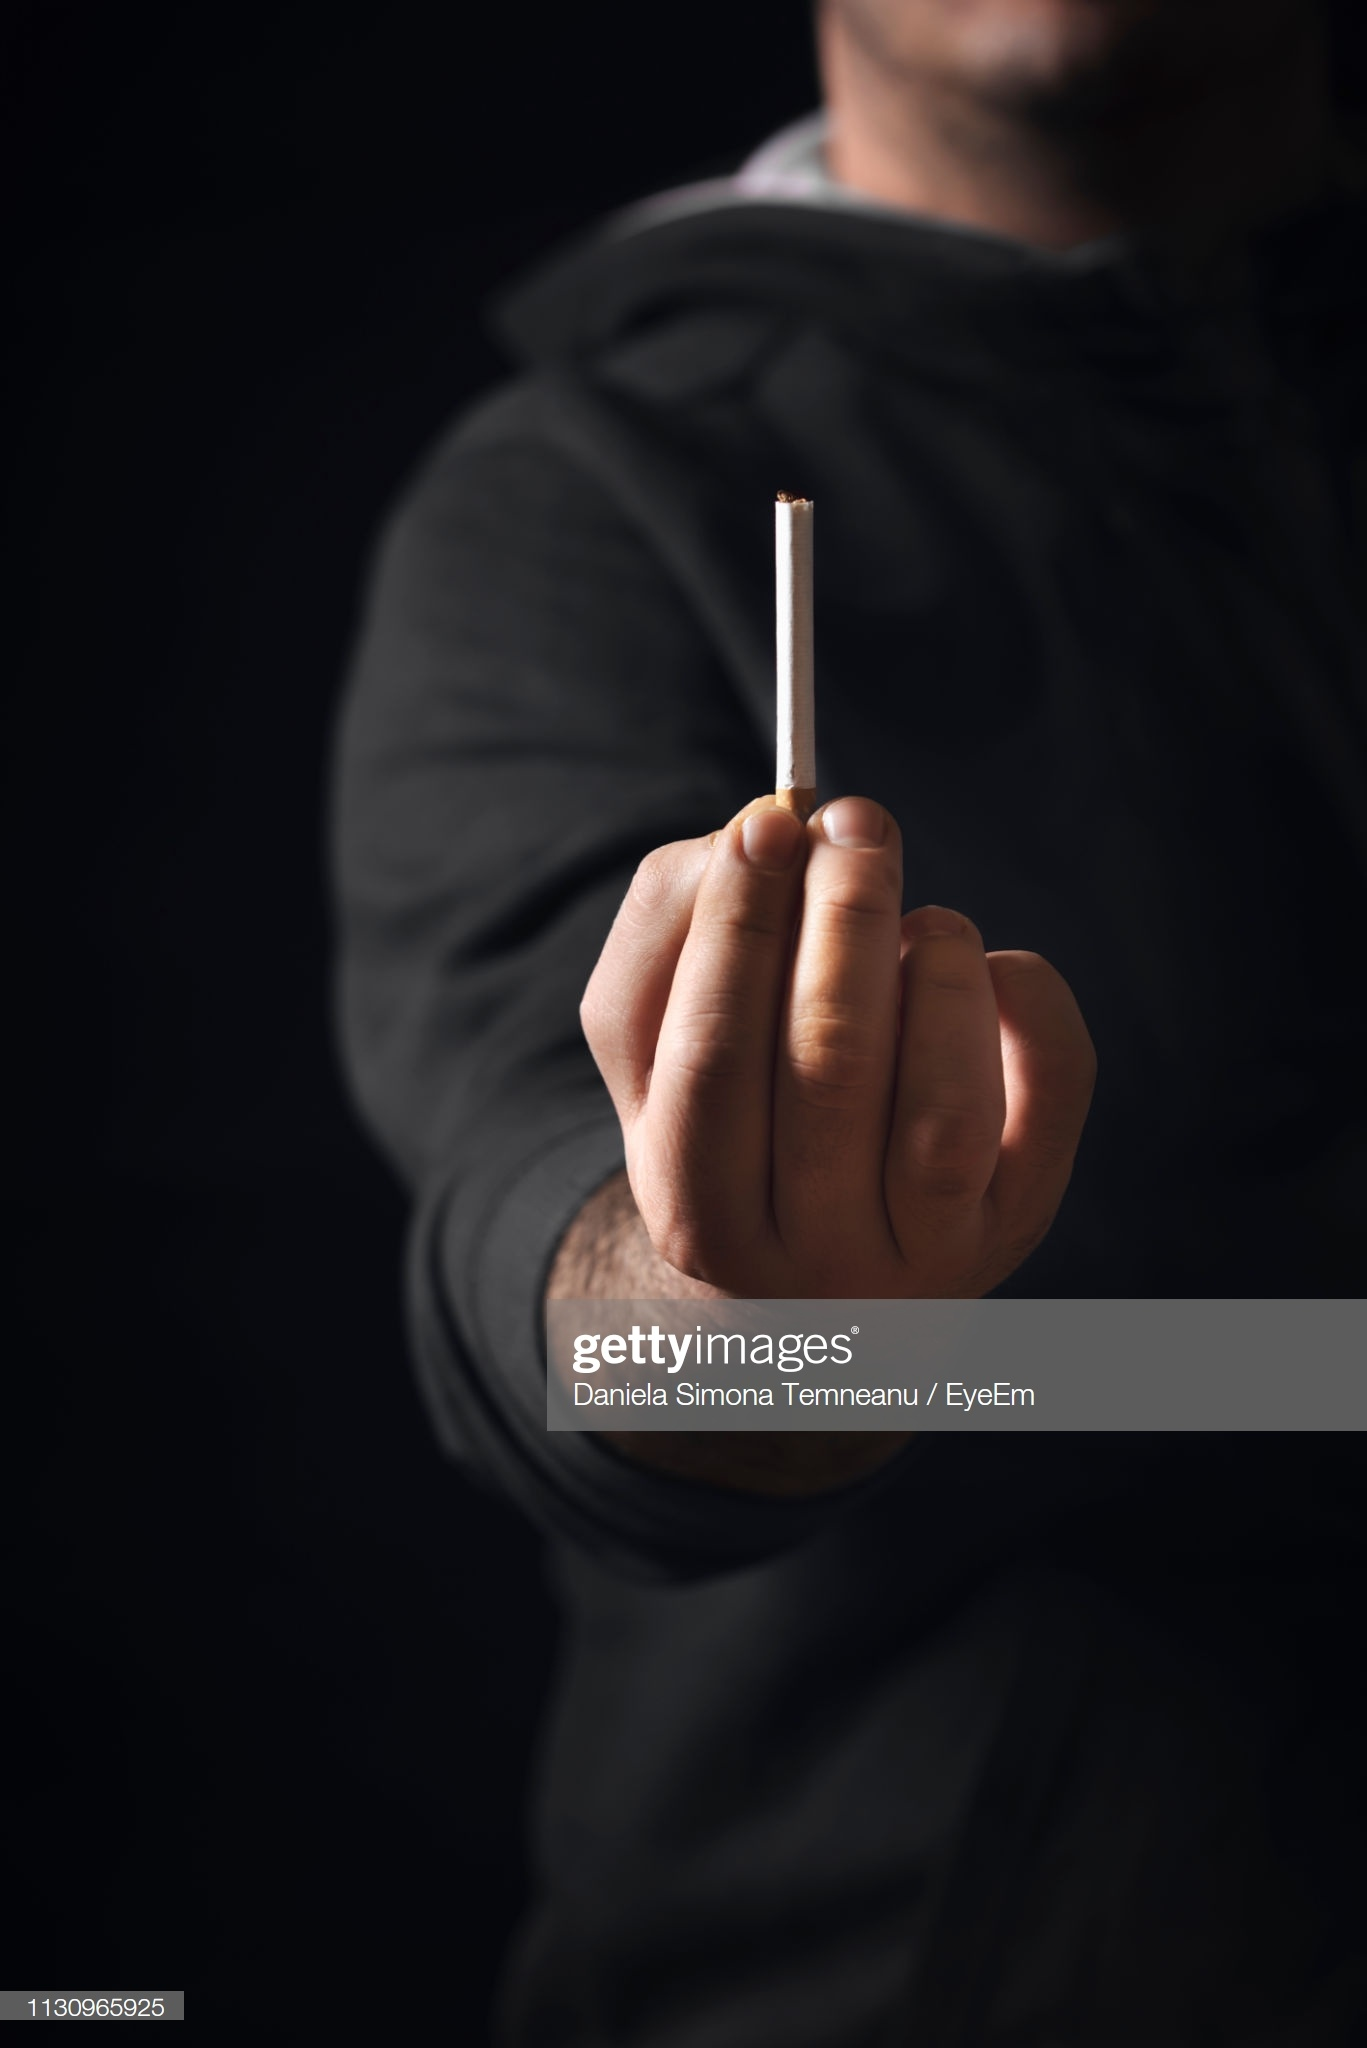sigaretta: (766, 470, 831, 833)
